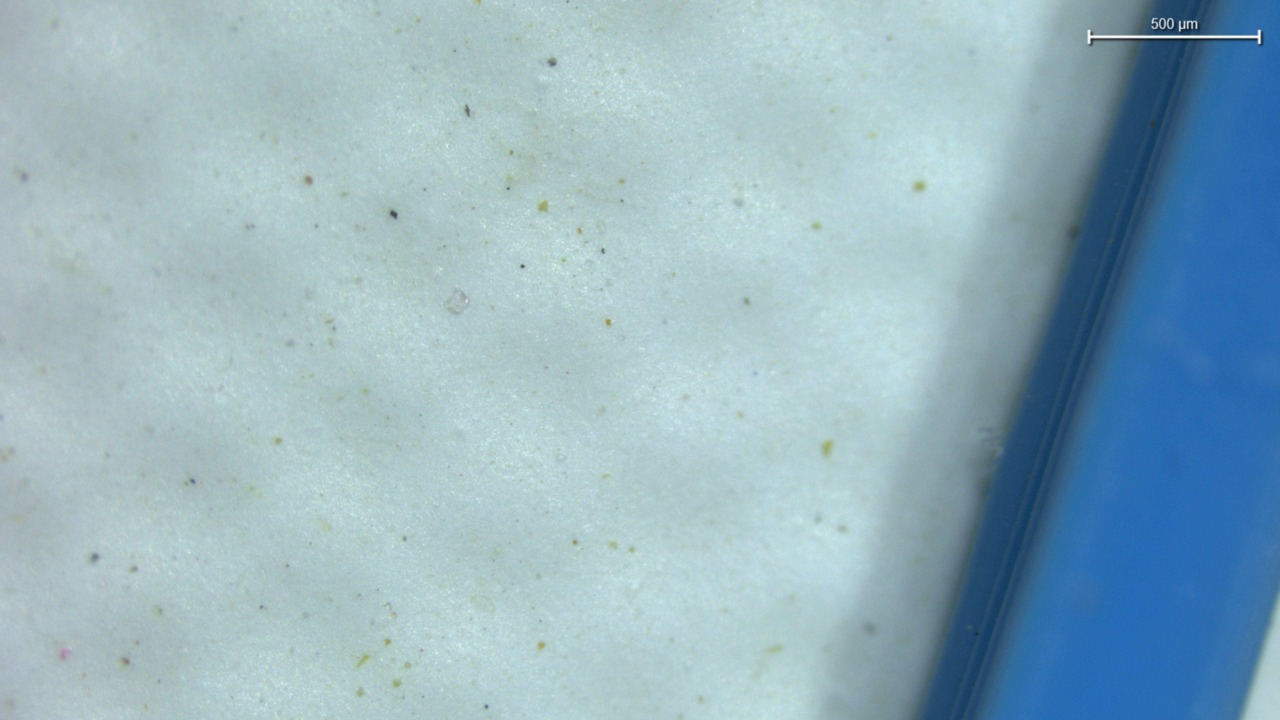microplastic_fragment: (443, 287, 470, 314)
